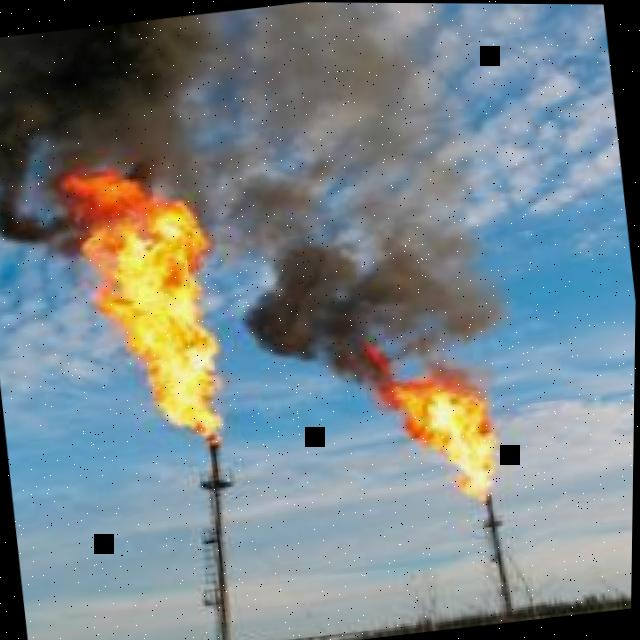fire: (58, 169, 234, 445), (365, 347, 500, 500)
smoke: (0, 2, 508, 383)
